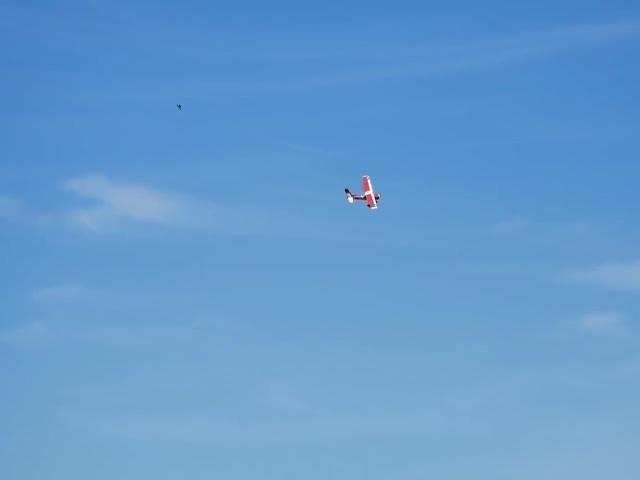Airplane: (344, 175, 381, 209)
